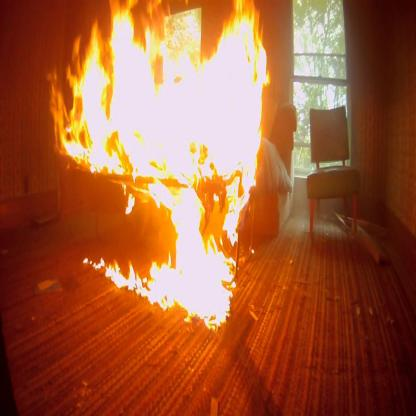fire: (47, 0, 270, 331)
